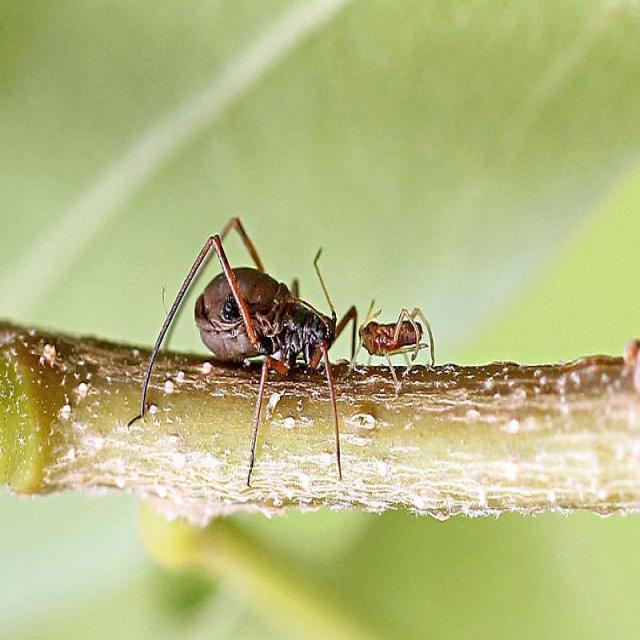Aphids: (115, 182, 369, 482)
